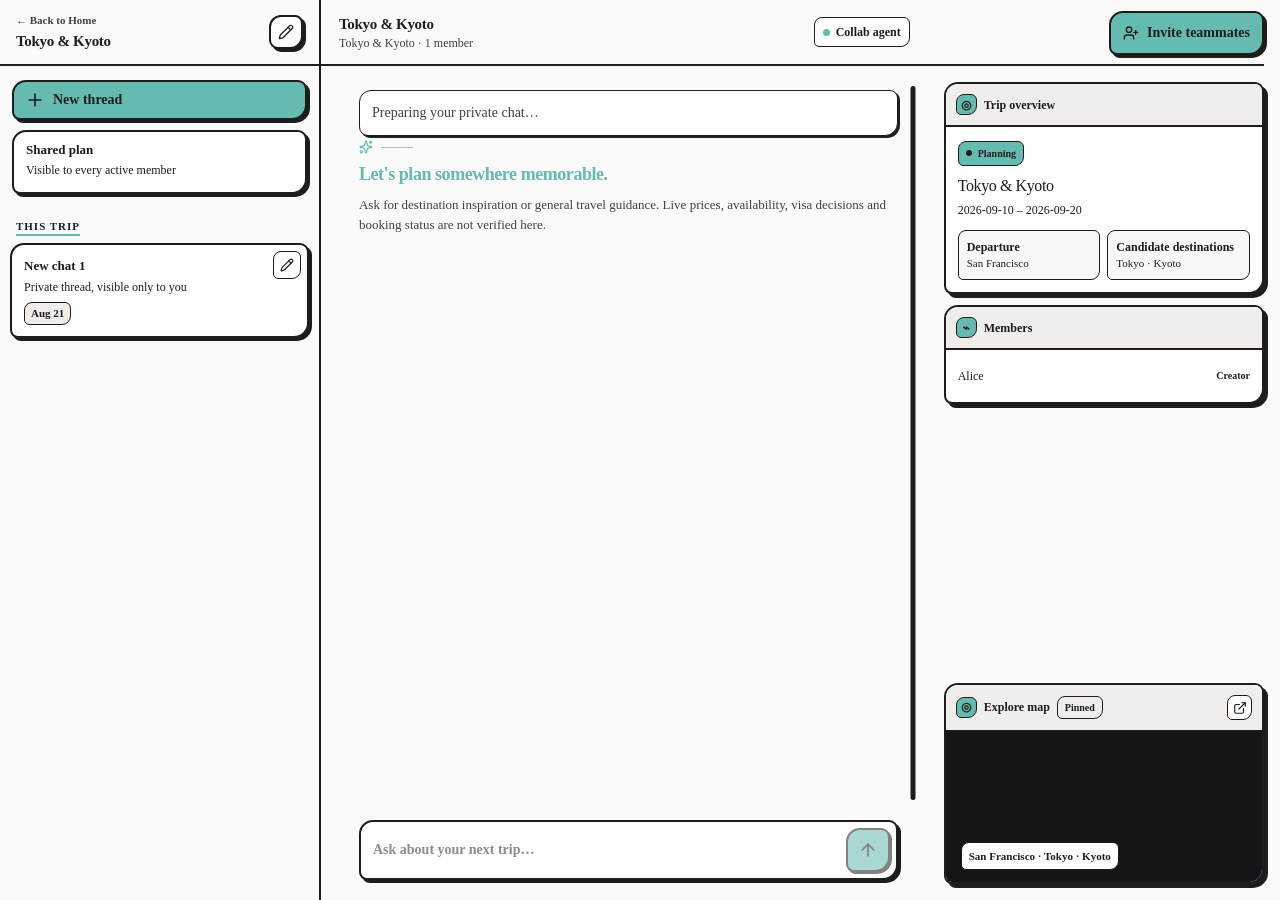
Test: TripWorkspace › reports an AI naming request that fails outright as unavailable
Click the button named "Thread actions".
click(287, 264)  # box x1=273 y1=250 x2=301 y2=278
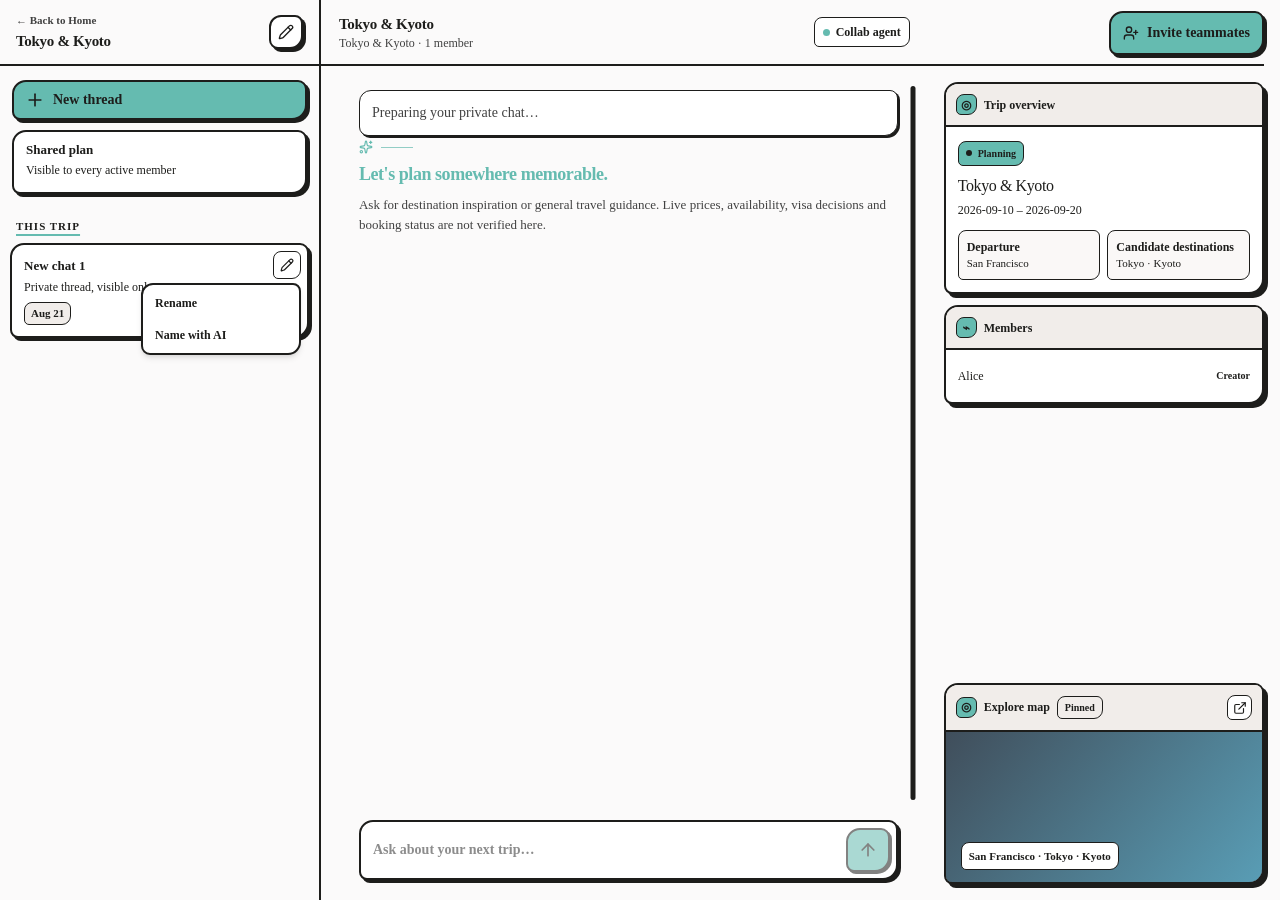
Click the menu item "Name with AI".
click(221, 334)  # box x1=147 y1=320 x2=295 y2=348
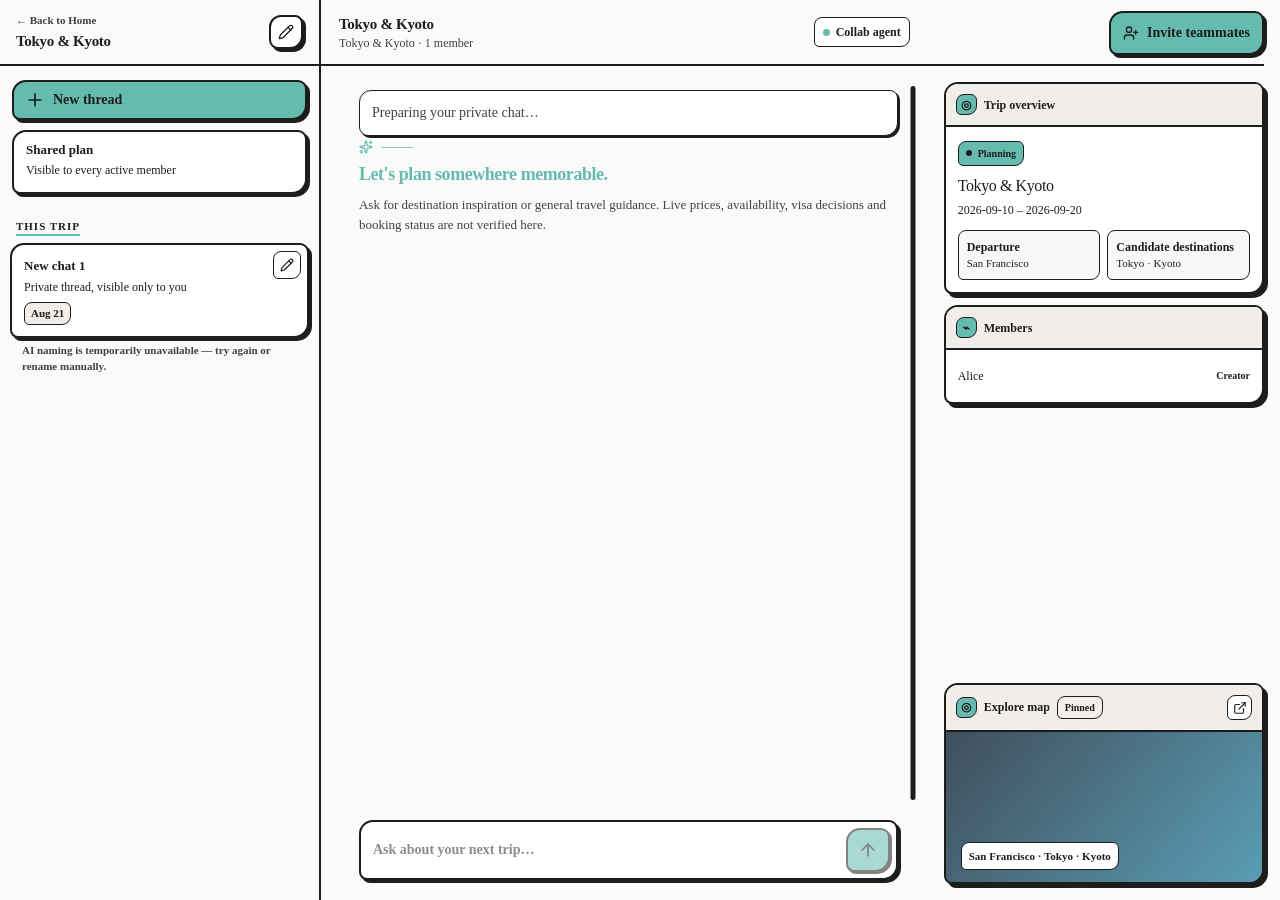
Expected: the button "New chat 1 Private thread, visible only to you Aug 21" is shown, x1=10 y1=242 x2=309 y2=338
Result: the text "AI naming is temporarily unavailable — try again or rename manually." is shown at x1=22 y1=344 x2=270 y2=372
